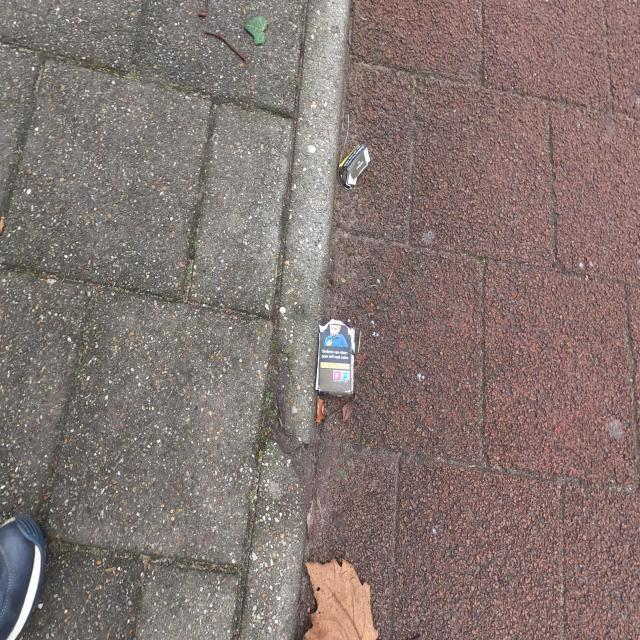Paper: (313, 316, 363, 398), (338, 142, 371, 192)
